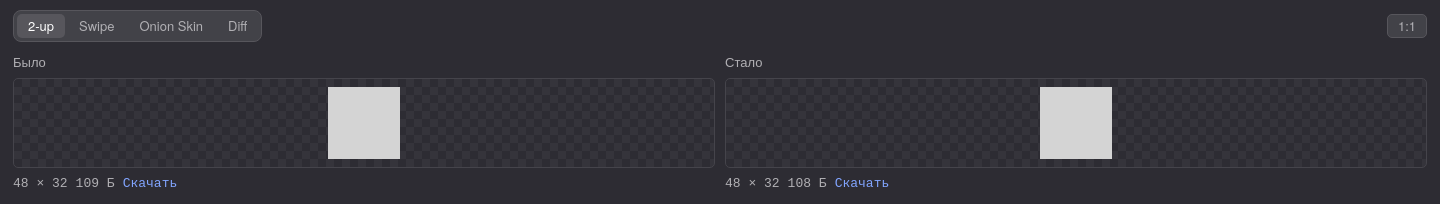
Test: карточка-картинка › Diff считает только после выбора режима и печатает сводку
Click the button with class "image-card__mode" showing "Diff" at x=238, y=26, box [217, 14, 258, 38]
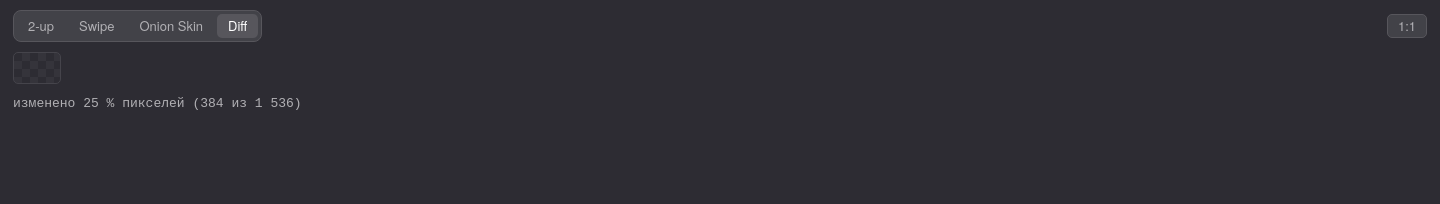
Result: the text "изменено 25 % пикселей" is shown at [13, 96, 302, 111]
Result: the text "384" is shown at [13, 96, 302, 111]
